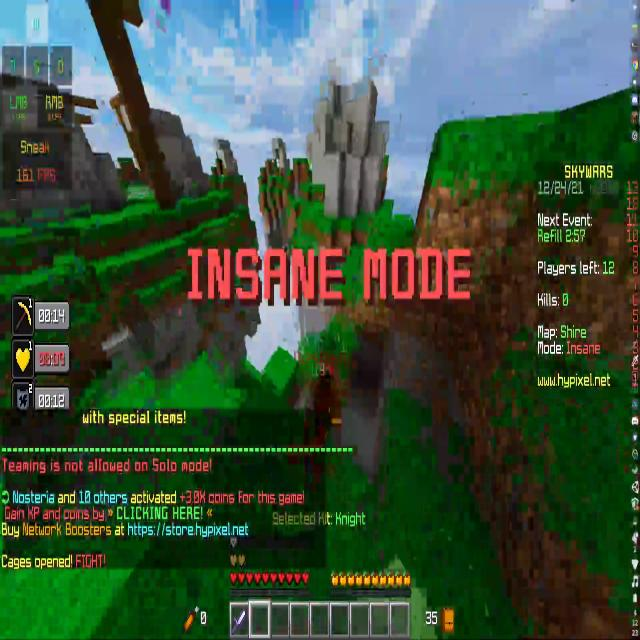Player: (299, 342, 346, 489)
